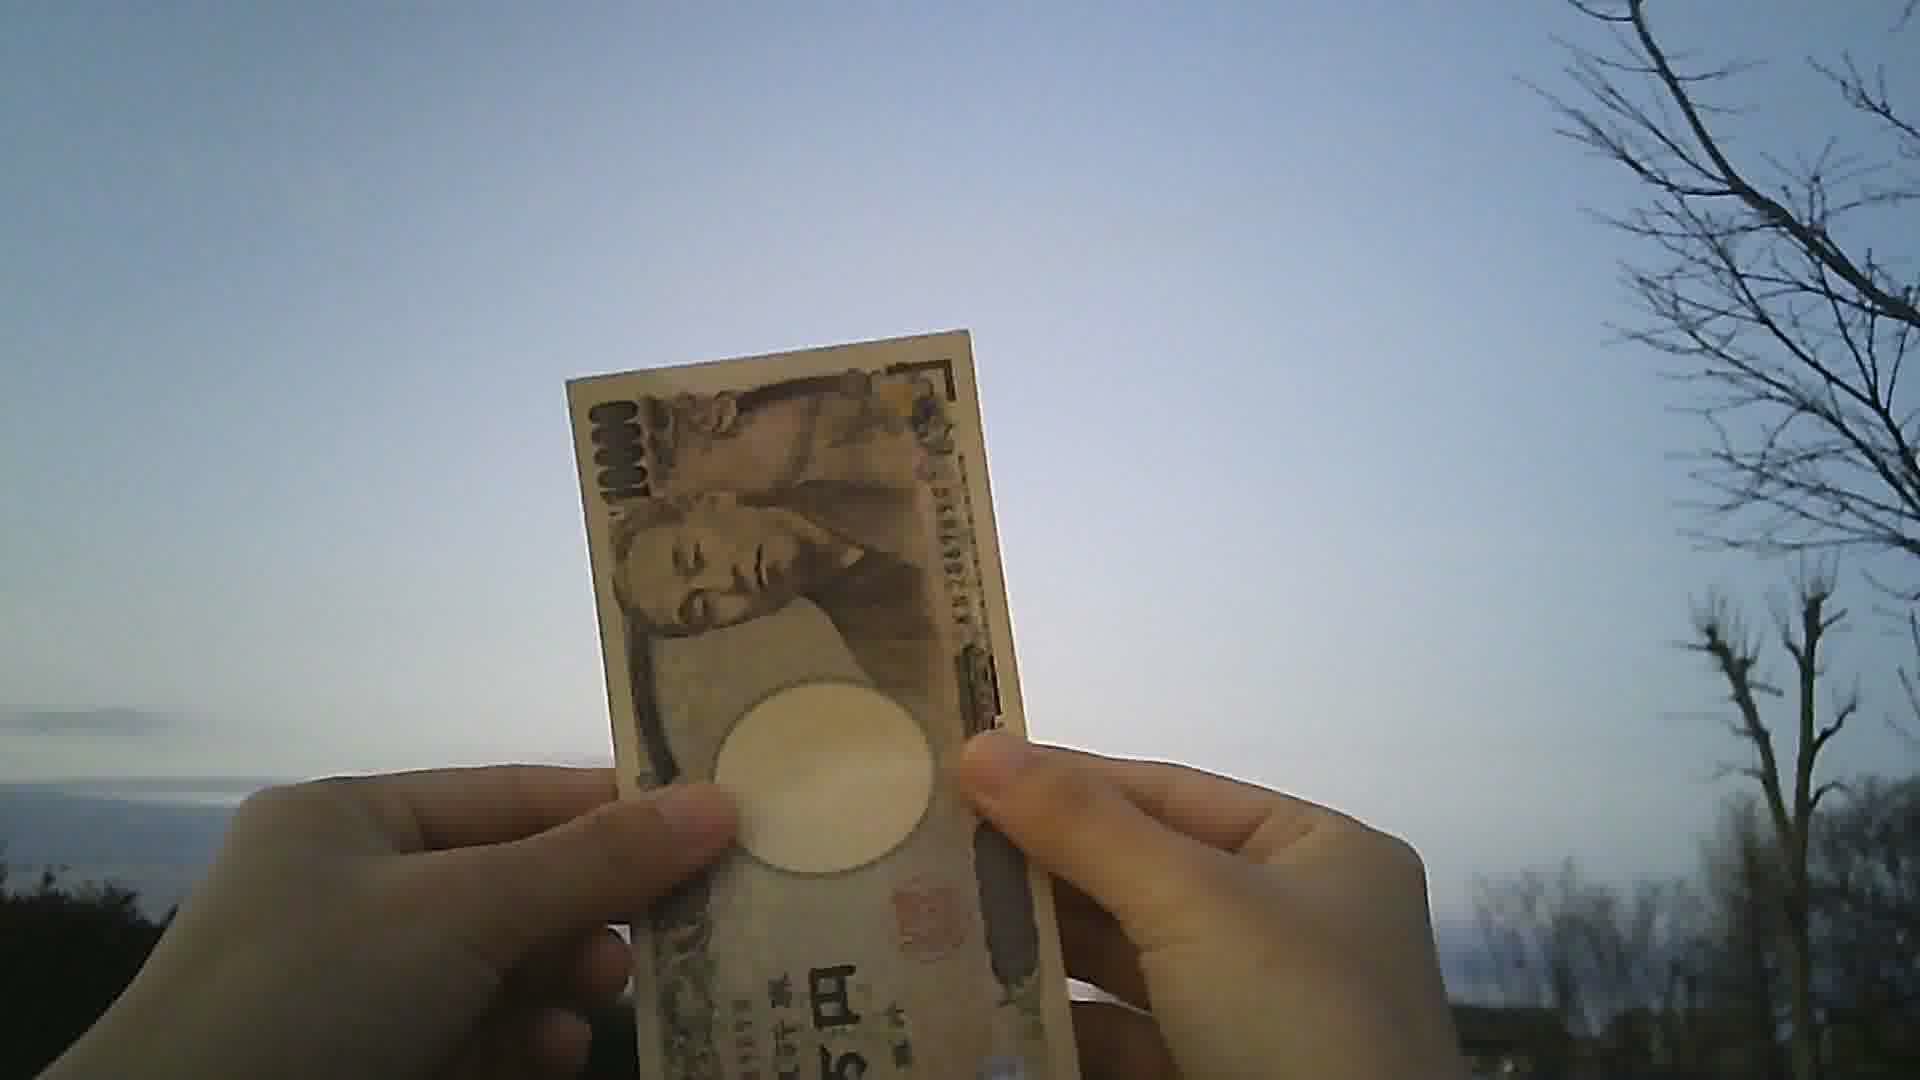10,000 Yen: (541, 328, 1088, 1079)
